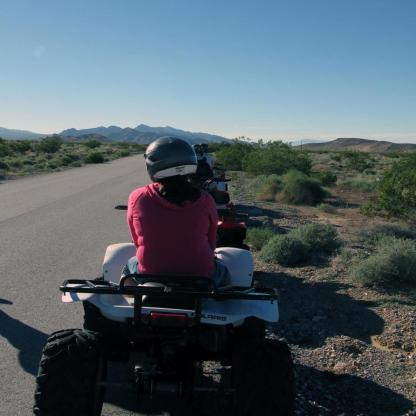Helmet: (141, 136, 196, 180), (200, 143, 214, 156), (193, 144, 205, 154)
